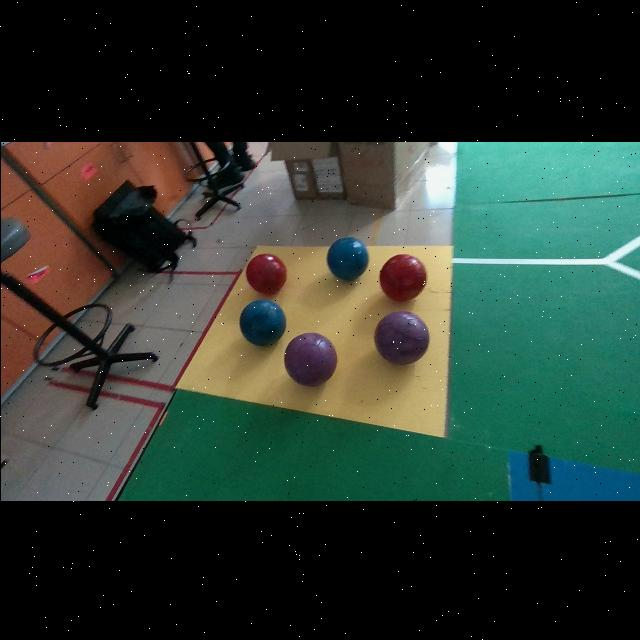B: (239, 298, 285, 345), (326, 235, 368, 279)
P: (374, 309, 428, 363), (283, 331, 336, 385)
R: (379, 252, 426, 301), (245, 252, 285, 292)
